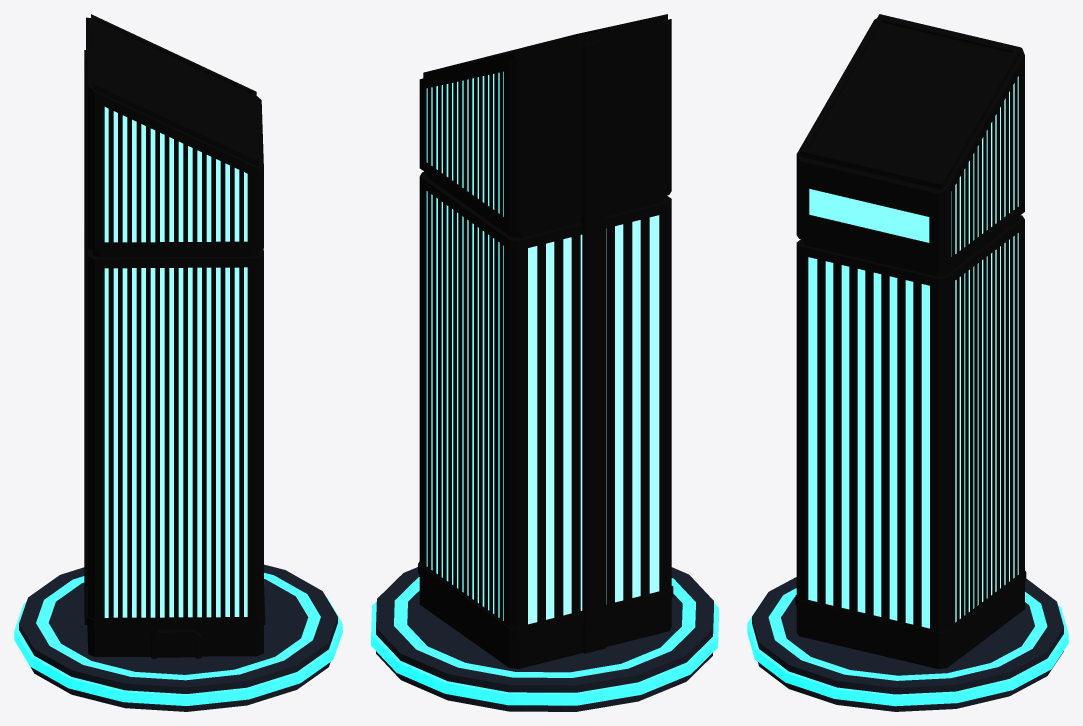
File: House1.fbx
3 views of the same model, side by side, from view 1: azimuth 30°, elevation 25°; view 2: azimuth 150°, elevation 25°; view 3: azimuth 270°, elevation 25° (orthographic). The views are drawn at different scales.
Parts seen in each view (by area): view 1: House1; view 2: House1; view 3: House1.
Boxes of the visible parts, x1,y1,x2,y2 form: House1: (14,14,342,711); House1: (371,14,718,711); House1: (747,14,1068,711).
Bounding box in the file's own units: 2126 × 4358 × 2126.
